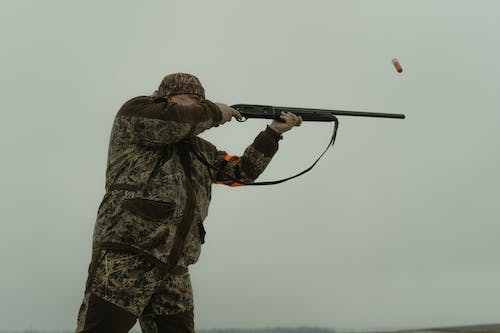gun: (229, 102, 409, 123)
